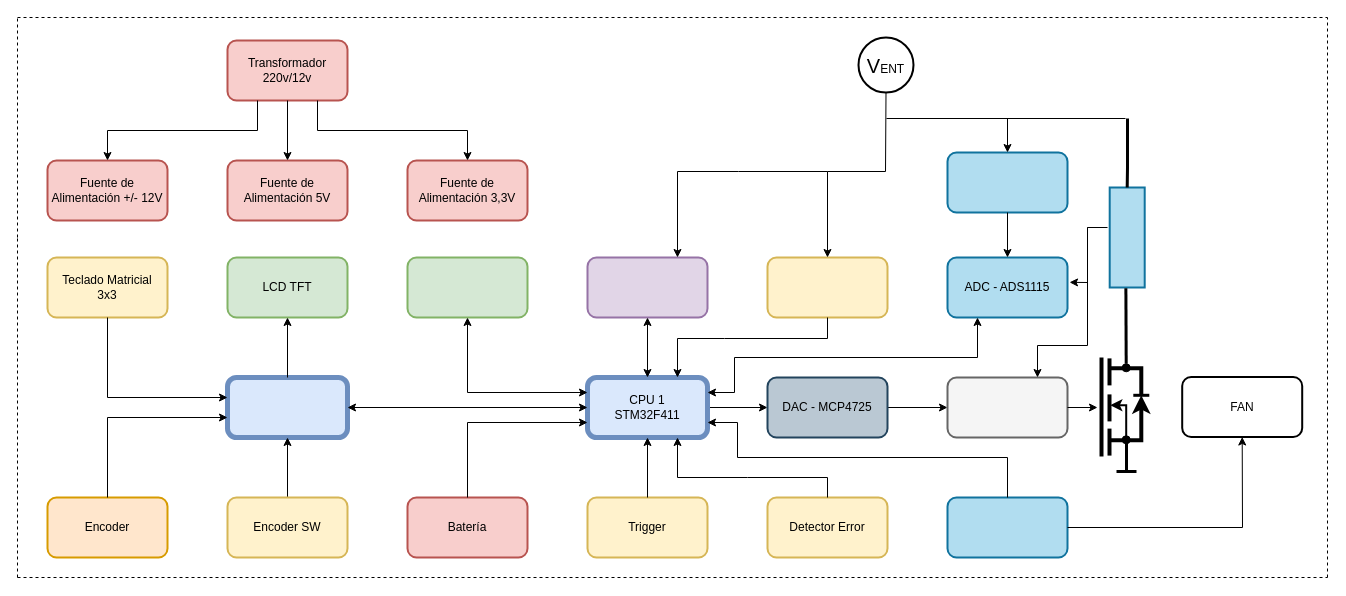
Some shapes in this 1346 by 596 pixel diagram are drawn without their labels. The shapes that lost their labels are listed below. From the top down, each one's centre as x and y in pixels, then its label:
At point (1007, 182): "Acondicionador de señal".
At point (1126, 237): "R0.05/1W Ohms".
At point (467, 287): "ETHERNET W5100".
At point (647, 287): "Conexión Modulo Extensión 500W".
At point (827, 287): "Detector Tensión Inv.".
At point (287, 407): "CPU 2 ESP32".
At point (1007, 407): "Lazo Control de Corriente".
At point (1007, 527): "Sensor Temperatura LM35".
